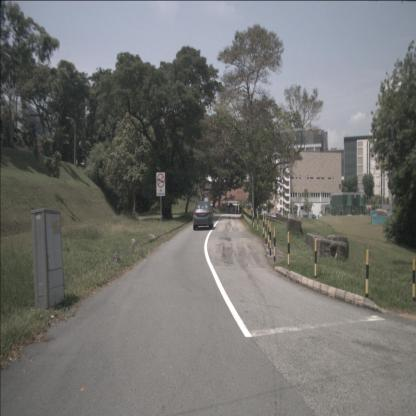vehicle-car: (193, 202, 214, 230)
